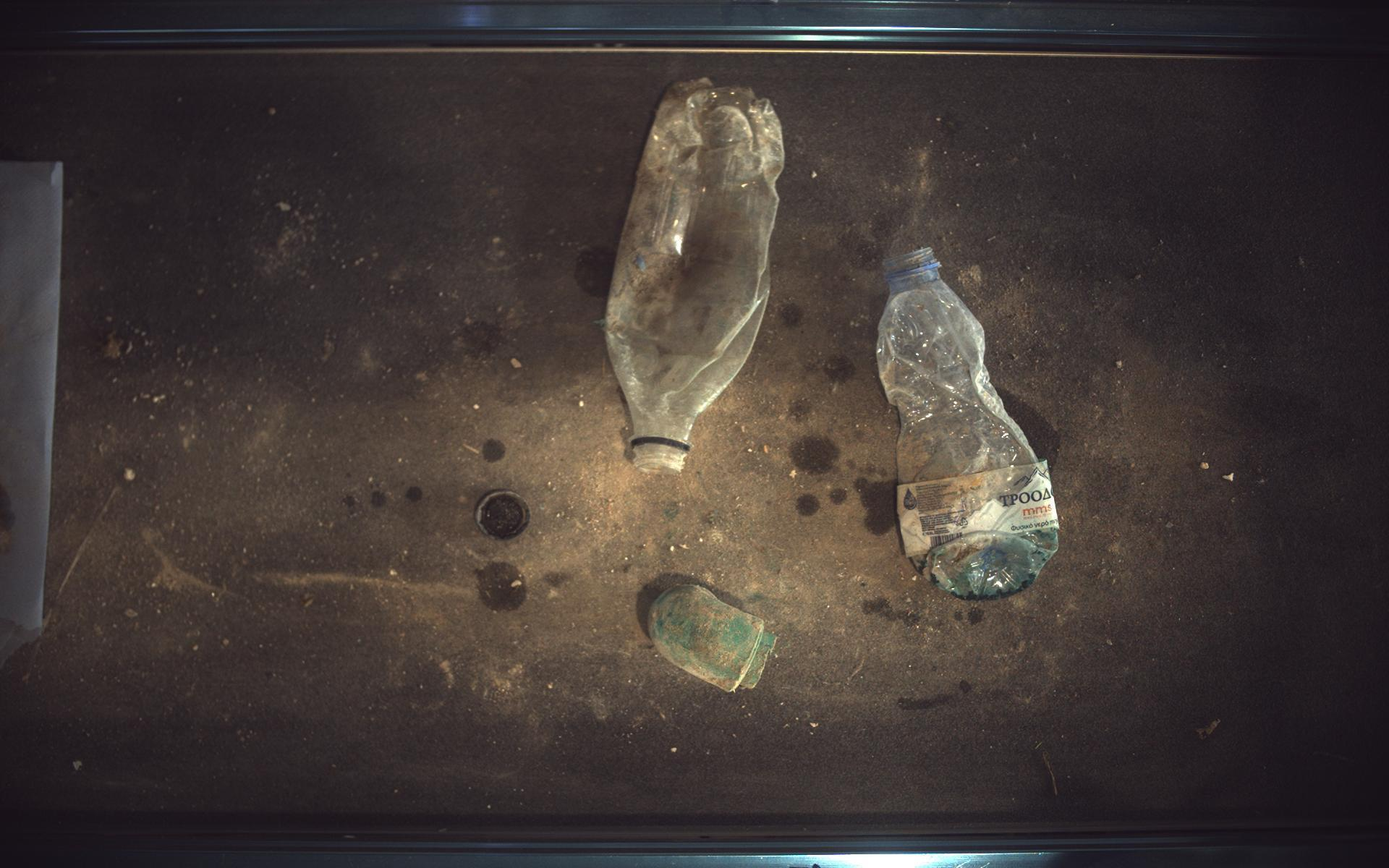general_w: (606, 77, 786, 472), (879, 247, 1061, 600), (475, 491, 530, 540)
pipes: (650, 585, 776, 693)
